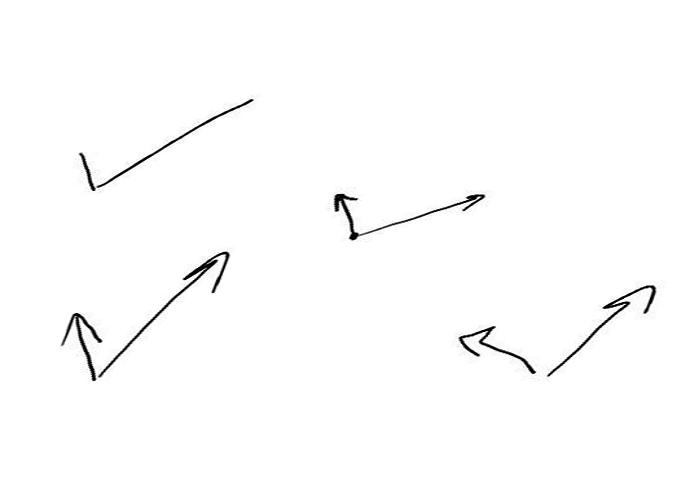arrow: (99, 249, 229, 377), (547, 282, 656, 372), (358, 193, 484, 235), (460, 320, 534, 375), (60, 309, 103, 381), (329, 192, 356, 231)
arrownohead: (98, 97, 255, 184), (75, 151, 95, 190)
